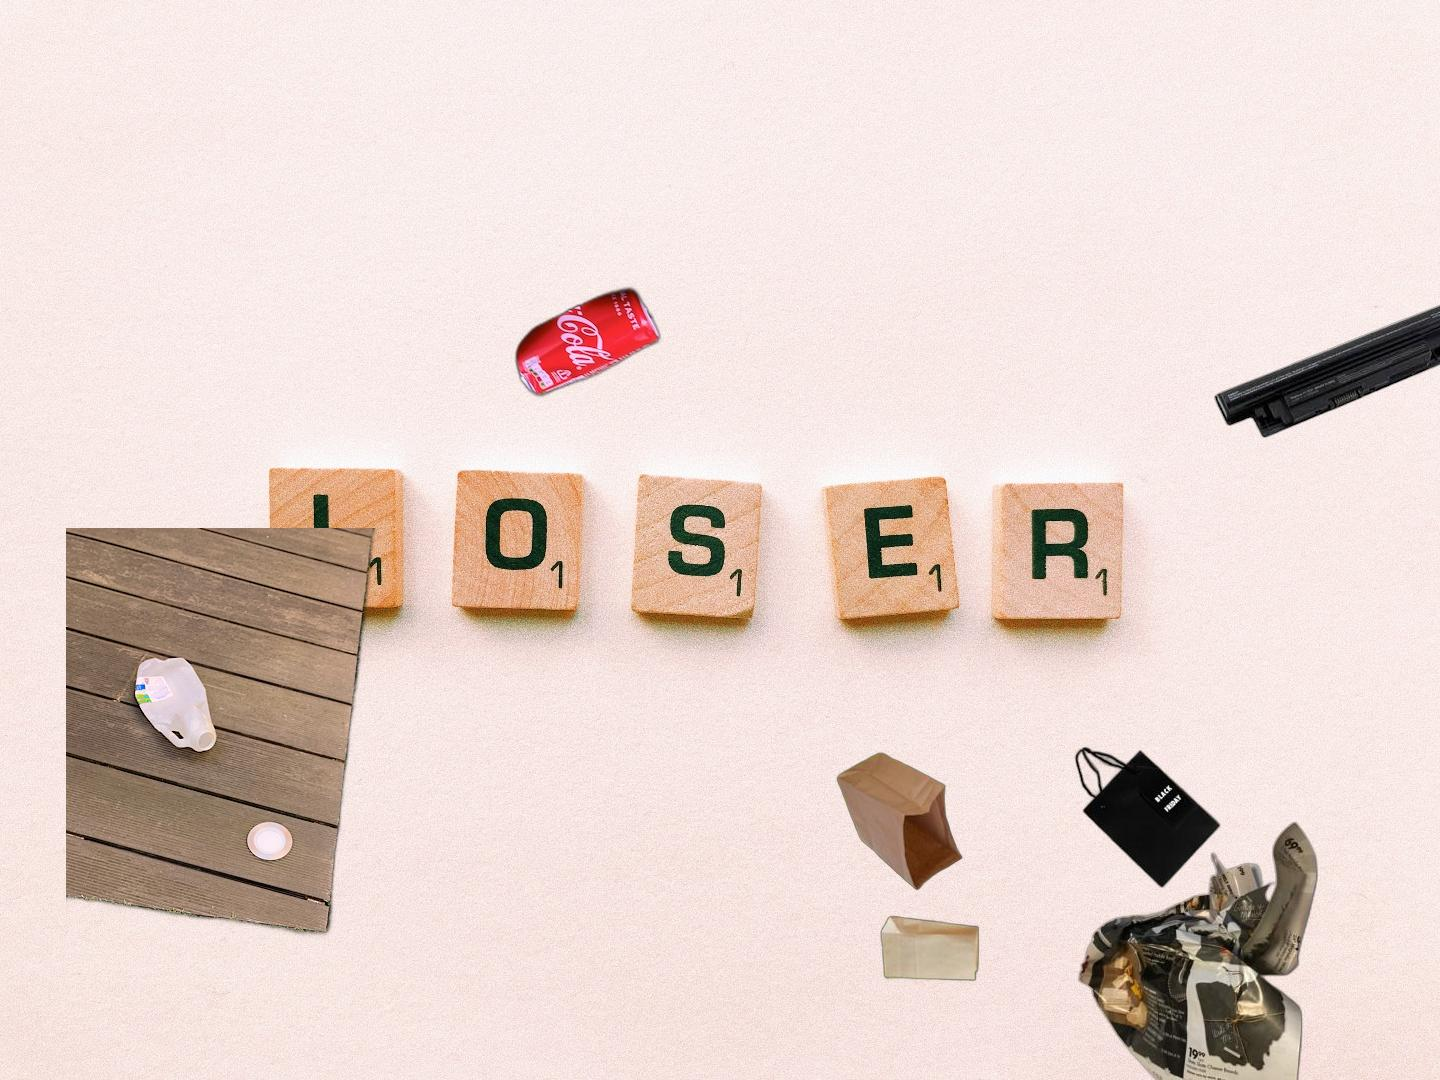battery: (1211, 282, 1440, 440)
metal-cans: (511, 282, 664, 400)
paper: (1074, 820, 1321, 1080)
paper-bag: (835, 751, 994, 984), (1074, 744, 1223, 891)
plastic-bottles: (66, 528, 384, 1080)
